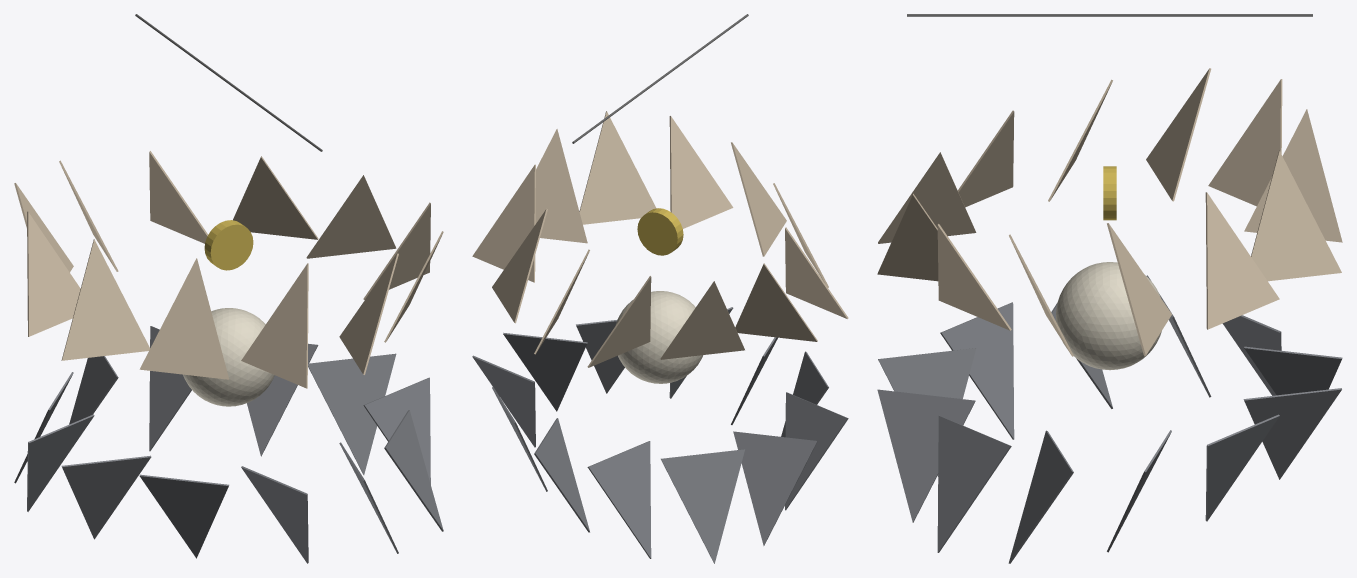
File: tess_lumen_pendant.glb
The picture shows the model from 3 angles, left to right: view 1: azimuth 30°, elevation 25°; view 2: azimuth 150°, elevation 25°; view 3: azimuth 270°, elevation 25°; orthographic projection. The views are drawn at different scales.
Visible parts, largest first — view 1: geometry_8, geometry_10, geometry_23, geometry_24, geometry_6, geometry_12, geometry_11, geometry_9, geometry_22, geometry_20, geometry_1, geometry_7 (+14 smaller); view 2: geometry_15, geometry_13, geometry_2, geometry_24, geometry_17, geometry_4, geometry_0, geometry_14, geometry_12, geometry_1, geometry_22, geometry_11 (+13 smaller); view 3: geometry_24, geometry_18, geometry_5, geometry_20, geometry_3, geometry_9, geometry_14, geometry_19, geometry_16, geometry_7, geometry_4, geometry_17 (+13 smaller).
Part boxes in pixels (x1=…): geometry_8: x1=139, y1=258, x2=229, y2=379; geometry_10: x1=61, y1=239, x2=149, y2=360; geometry_23: x1=308, y1=353, x2=396, y2=474; geometry_24: x1=183, y1=308, x2=274, y2=406; geometry_6: x1=241, y1=263, x2=308, y2=388; geometry_12: x1=27, y1=211, x2=80, y2=336; geometry_11: x1=61, y1=455, x2=151, y2=539; geometry_9: x1=139, y1=474, x2=229, y2=558; geometry_22: x1=306, y1=175, x2=396, y2=258; geometry_20: x1=233, y1=156, x2=318, y2=239; geometry_1: x1=363, y1=377, x2=430, y2=484; geometry_7: x1=241, y1=466, x2=308, y2=563; geometry_15: x1=661, y1=449, x2=744, y2=563; geometry_13: x1=733, y1=431, x2=817, y2=545; geometry_2: x1=579, y1=111, x2=656, y2=224; geometry_24: x1=615, y1=291, x2=703, y2=383; geometry_17: x1=587, y1=441, x2=651, y2=558; geometry_4: x1=669, y1=116, x2=733, y2=228; geometry_0: x1=535, y1=129, x2=587, y2=243; geometry_14: x1=660, y1=281, x2=744, y2=359; geometry_12: x1=735, y1=263, x2=817, y2=341; geometry_1: x1=503, y1=332, x2=587, y2=411; geometry_22: x1=472, y1=164, x2=535, y2=282; geometry_11: x1=785, y1=392, x2=848, y2=510; geometry_24: x1=1056, y1=262, x2=1161, y2=370; geometry_18: x1=1251, y1=150, x2=1341, y2=281; geometry_5: x1=877, y1=389, x2=975, y2=522; geometry_20: x1=1205, y1=192, x2=1279, y2=329; geometry_3: x1=937, y1=415, x2=1011, y2=552; geometry_9: x1=940, y1=302, x2=1014, y2=439; geometry_14: x1=1208, y1=79, x2=1282, y2=206; geometry_19: x1=1243, y1=388, x2=1341, y2=479; geometry_16: x1=1244, y1=109, x2=1342, y2=242; geometry_7: x1=878, y1=348, x2=976, y2=476; geometry_4: x1=877, y1=193, x2=938, y2=281; geometry_17: x1=1244, y1=346, x2=1342, y2=395.
Size of the model in its own units: 0.6872 by 0.7606 by 0.6872.
